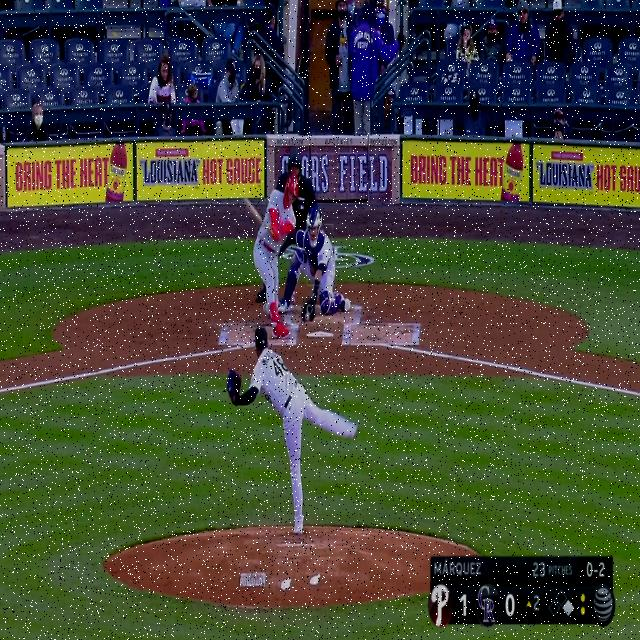baseball: (304, 312, 310, 322)
